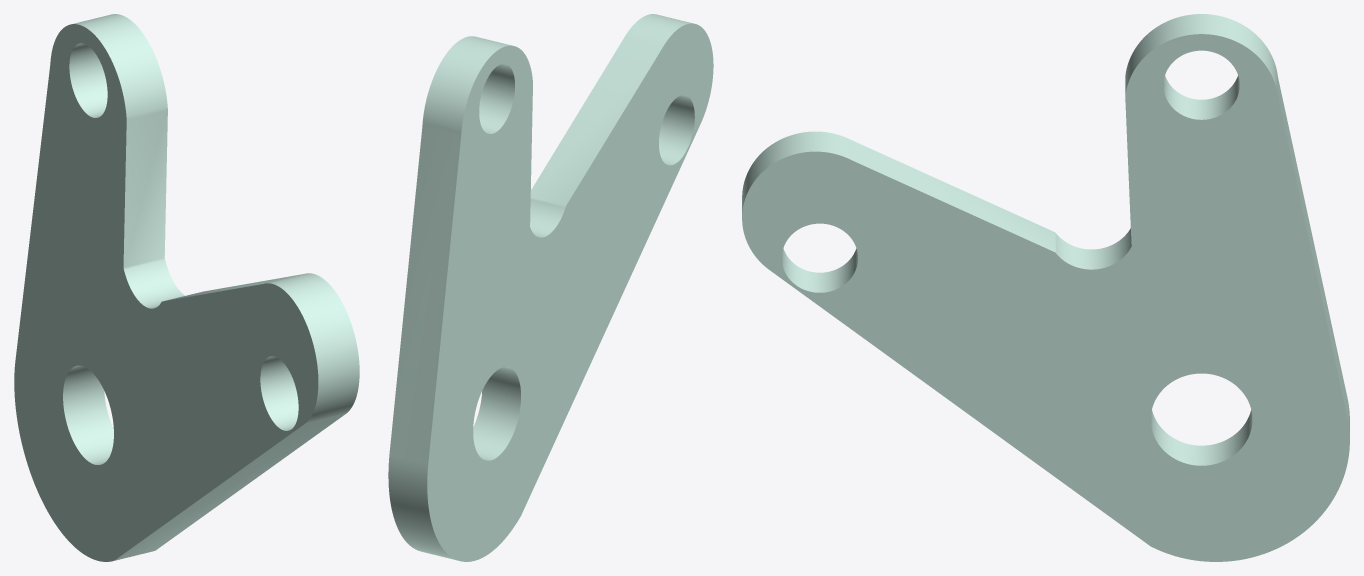
3 views of the same model, side by side, from view 1: azimuth 30°, elevation 25°; view 2: azimuth 150°, elevation 25°; view 3: azimuth 270°, elevation 25° (orthographic). The views are drawn at different scales.
Visible parts, largest first — view 1: Renderer Node; view 2: Renderer Node; view 3: Renderer Node.
Part boxes in pixels (bbox=[...]): Renderer Node: bbox=[14, 14, 359, 561]; Renderer Node: bbox=[388, 14, 713, 561]; Renderer Node: bbox=[742, 14, 1349, 561].
Bounding box in the file's own units: 0.0781 × 0.9563 × 0.998.
